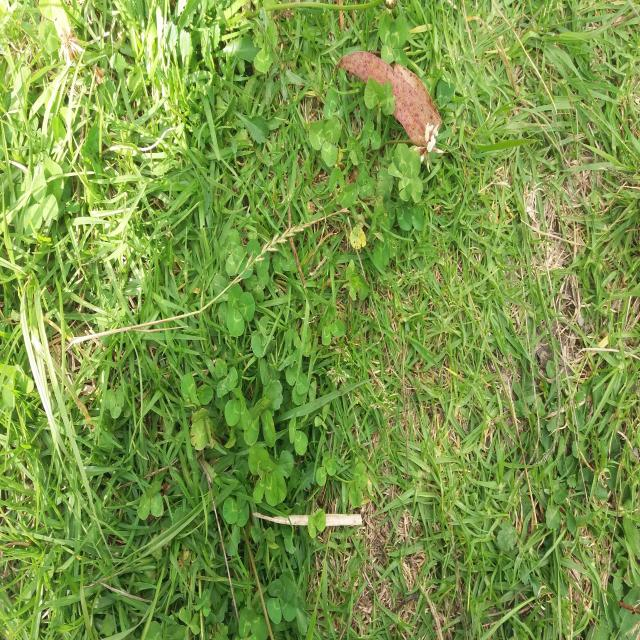Four Leaf Clover: (388, 143, 423, 203), (280, 363, 301, 391)
